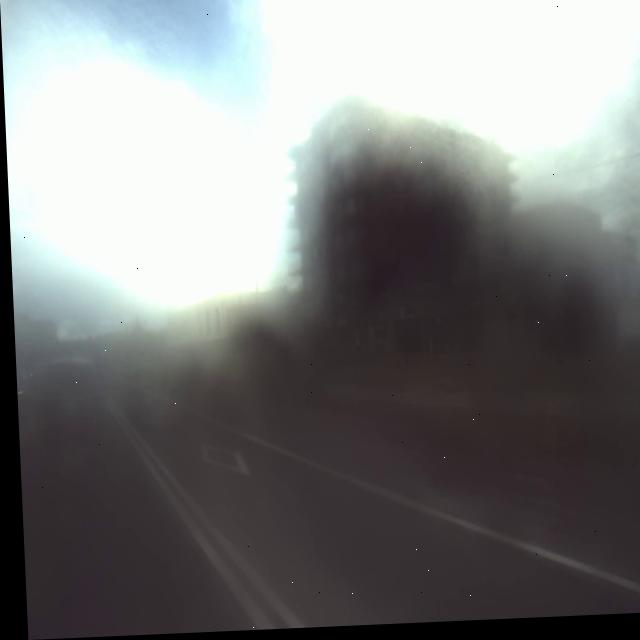car: (24, 347, 103, 449)
